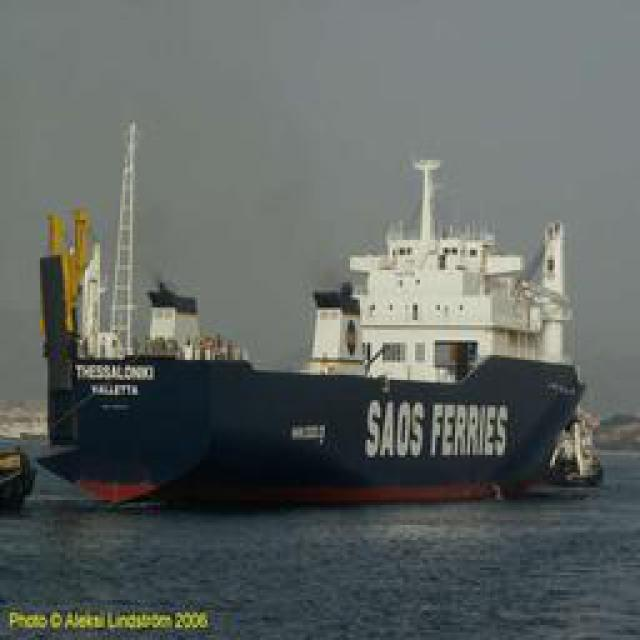Ship: (65, 363, 593, 508)
